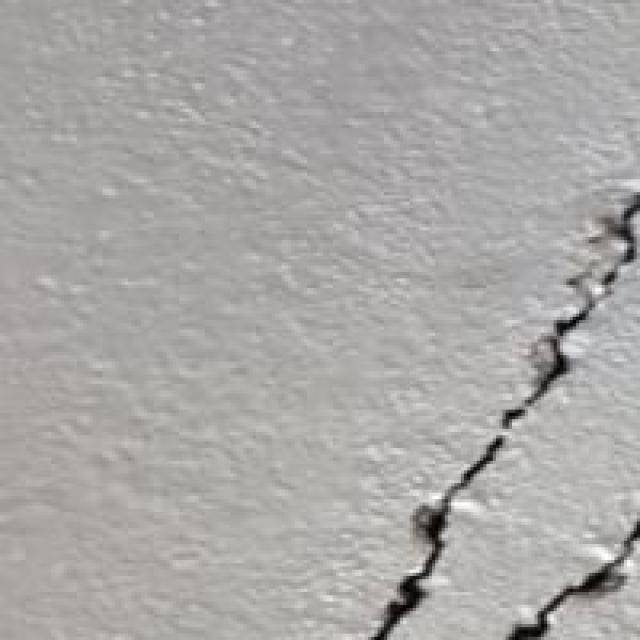Crack: (349, 186, 637, 636)
